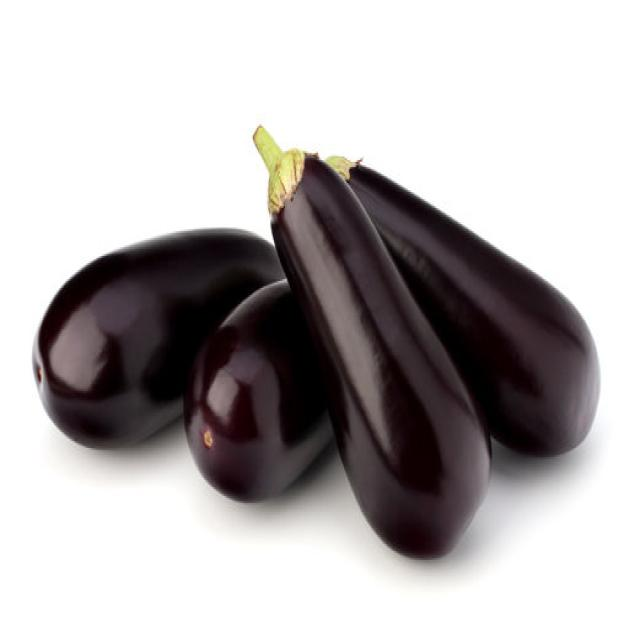Eggplant: (252, 123, 492, 558), (323, 151, 601, 457), (31, 224, 285, 450), (182, 276, 334, 503)
